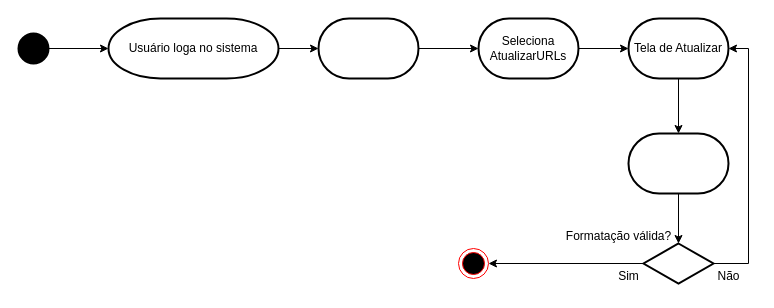
Image size: 774x308. Some labels were removed from this diagram. The shapes that lost their labels are listed below. From the top down, each one's centre as x and y in pixels, then its label:
point (368, 48): Tela principal
point (678, 163): Insere as URLs
